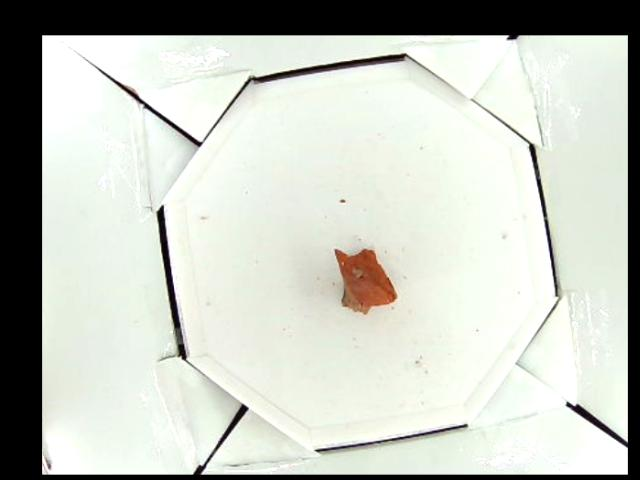Brisk: (335, 245, 397, 312)
